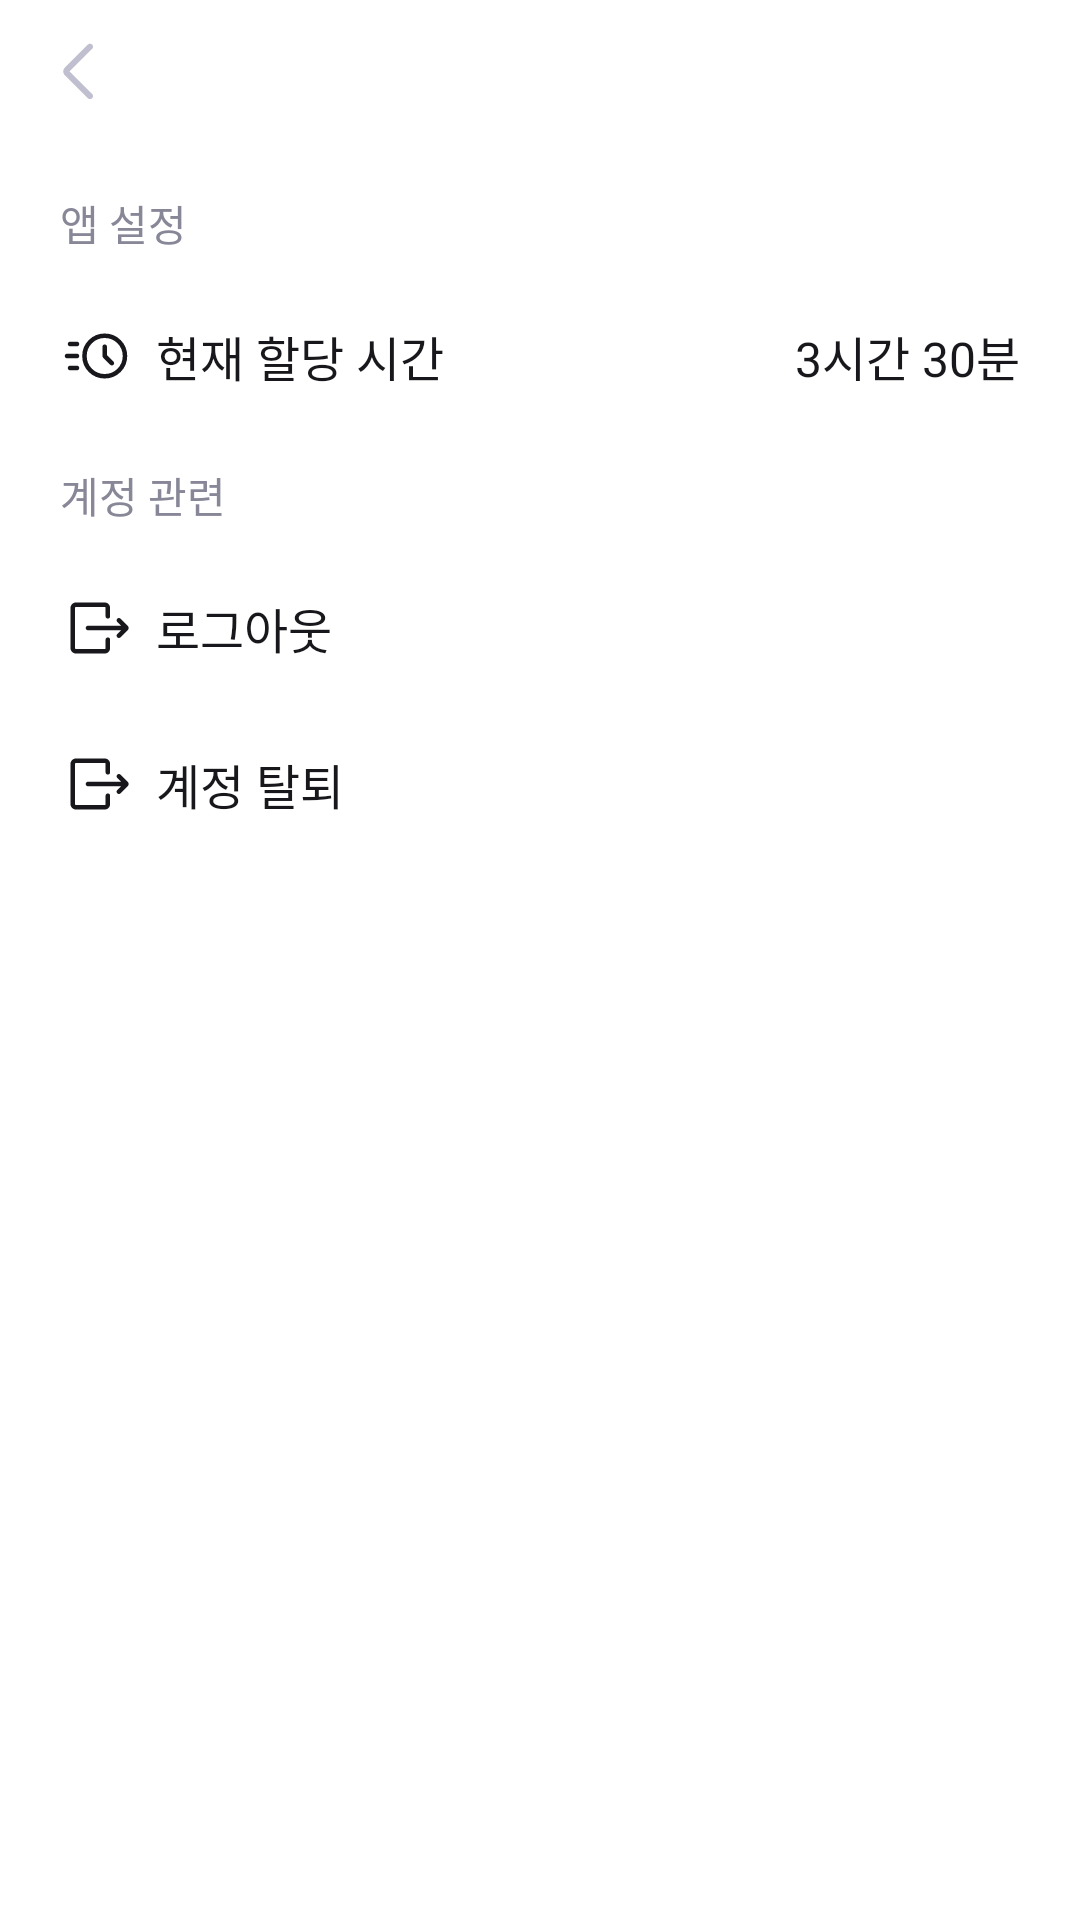

Named icons in this screenshot (1080w x 1920h) and their centers, (x,y):
arrow back: (78,71)
time: (96,356)
